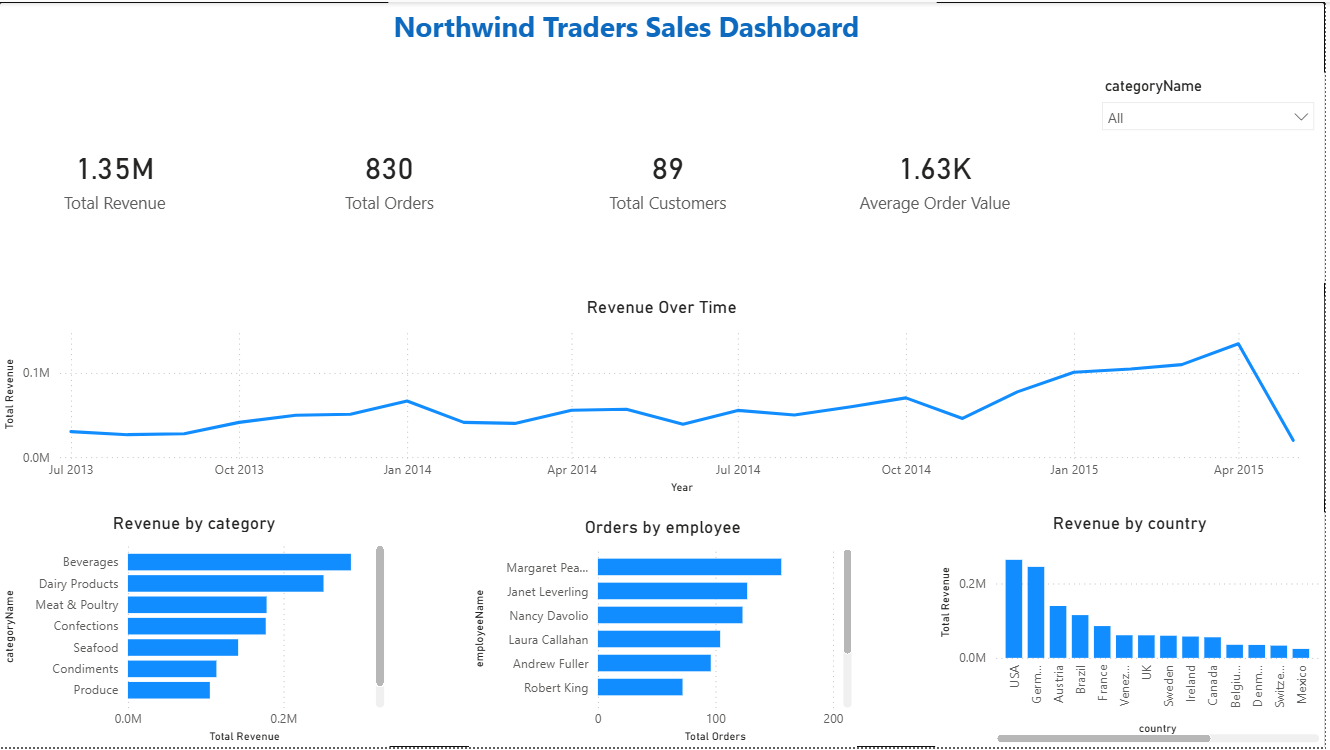

What the dashboard file says about the page in this screenshot:
{"tool":"powerbi","page":{"name":"Page 1","canvas":[1280,720],"ordinal":0},"visuals":[{"type":"card","fields":{"Values":["orders.Total Revenue"]},"box":[0,68.1,223.8,203.1],"z":0},{"type":"card","fields":{"Values":["orders.Total Orders"]},"box":[257.6,68.1,238.4,203.1],"z":1000},{"type":"card","fields":{"Values":["orders.Total Customers"]},"box":[537,68.1,216.5,203.1],"z":2000},{"type":"card","fields":{"Values":["orders.Average Order Value"]},"box":[794.6,68.1,219,203.1],"z":3000},{"type":"clusteredBarChart","title":"Revenue by category","fields":{"Category":["categories.categoryName"],"Y":["orders.Total Revenue"]},"box":[0,492.5,377.1,227.5],"z":4000},{"type":"clusteredColumnChart","title":"Revenue by country","fields":{"Category":["customers.country"],"Y":["orders.Total Revenue"]},"box":[903.8,492.5,375.9,227.5],"z":5000},{"type":"clusteredBarChart","title":"Orders by employee","fields":{"Category":["employees.employeeName"],"Y":["orders.Total Orders"]},"box":[453.1,496.2,374.7,223.8],"z":6000},{"type":"lineChart","title":"Revenue Over Time","fields":{"Category":["orders.orderDate.Variation.Date Hierarchy.Year","orders.orderDate.Variation.Date Hierarchy.Quarter","orders.orderDate.Variation.Date Hierarchy.Month","orders.orderDate.Variation.Date Hierarchy.Day"],"Y":["orders.Total Revenue"]},"box":[0,284.6,1279.7,194.6],"z":7000},{"type":"slicer","fields":{"Values":["categories.categoryName"]},"box":[1054.6,68.1,225,203.1],"z":8000},{"type":"textbox","box":[364.5,8.5,551,49.9],"z":9000}]}

Visuals, with their boxes in screenshot pixels (x1, y1, x2, y2), scaled from the page's 1280x720 canvas onto the 1330x750 screenshot:
card - orders.Total Revenue: [left=0, top=71, right=233, bottom=282]
card - orders.Total Orders: [left=268, top=71, right=515, bottom=282]
card - orders.Total Customers: [left=558, top=71, right=783, bottom=282]
card - orders.Average Order Value: [left=826, top=71, right=1053, bottom=282]
"Revenue by category" clusteredBarChart: [left=0, top=513, right=392, bottom=749]
"Revenue by country" clusteredColumnChart: [left=939, top=513, right=1329, bottom=749]
"Orders by employee" clusteredBarChart: [left=471, top=517, right=860, bottom=749]
"Revenue Over Time" lineChart: [left=0, top=296, right=1329, bottom=499]
slicer - categories.categoryName: [left=1096, top=71, right=1329, bottom=282]
textbox: [left=379, top=9, right=951, bottom=61]
